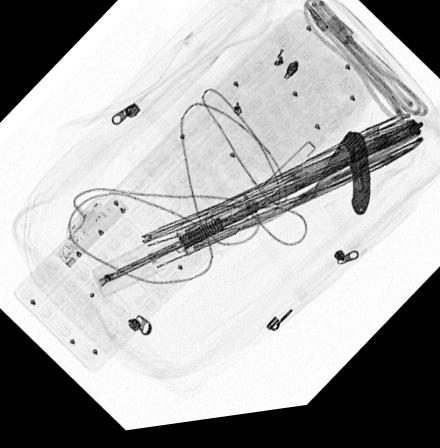Knife: (307, 139, 371, 226)
